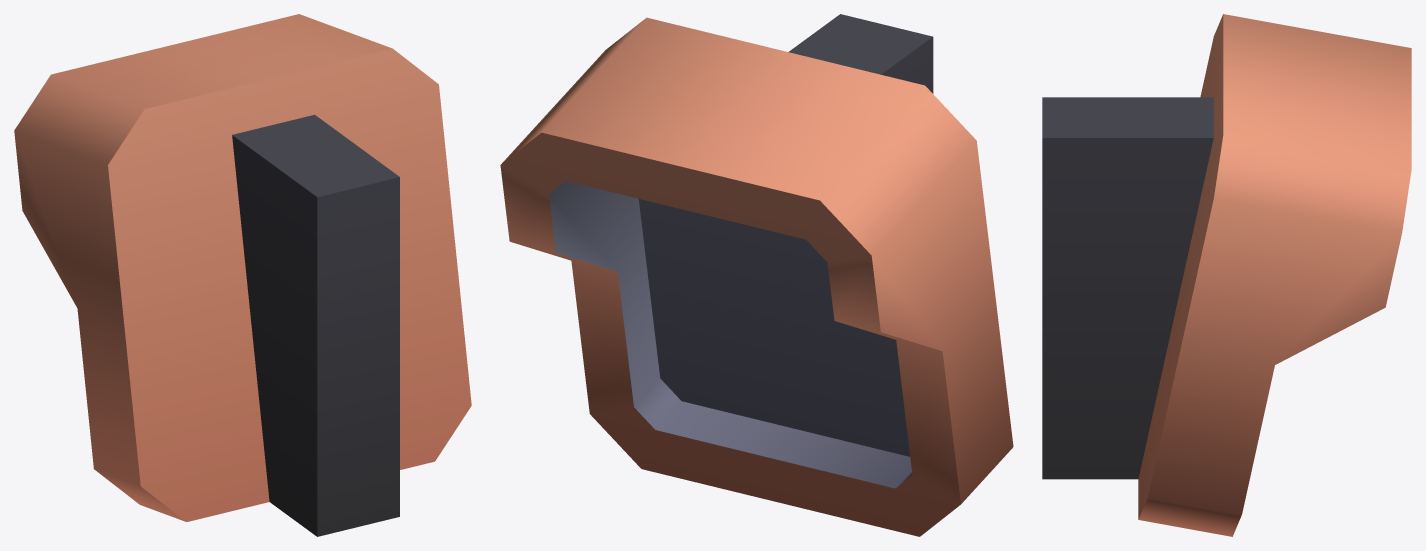
The model's file is screen-hanging-small.obj.
3 views of the same model, side by side, from view 1: azimuth 30°, elevation 25°; view 2: azimuth 150°, elevation 25°; view 3: azimuth 270°, elevation 25° (orthographic). The views are drawn at different scales.
Visible parts, largest first — view 1: screen-hanging-small; view 2: screen-hanging-small; view 3: screen-hanging-small.
Boxes of the visible parts, left/top/right/bottom form: screen-hanging-small: left=14, top=14, right=471, bottom=536; screen-hanging-small: left=500, top=14, right=1013, bottom=536; screen-hanging-small: left=1042, top=14, right=1411, bottom=536.
Bounding box in the file's own units: 0.6 × 0.6913 × 0.5766.
